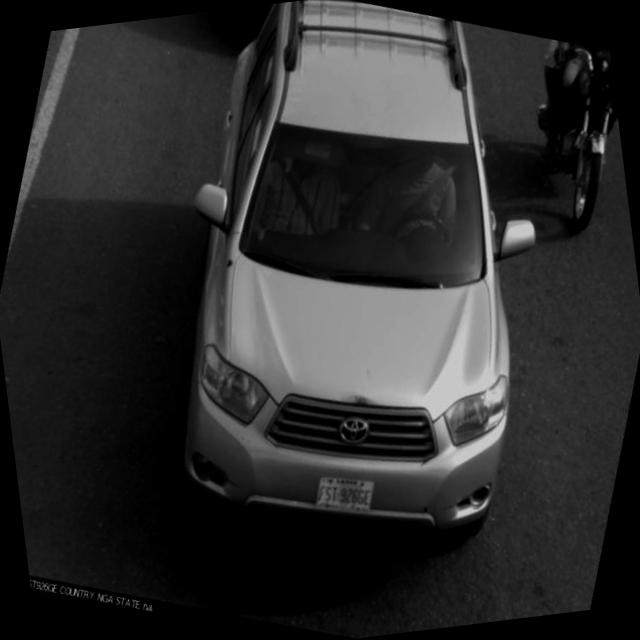person_with_seatbelt: (364, 140, 480, 270)
